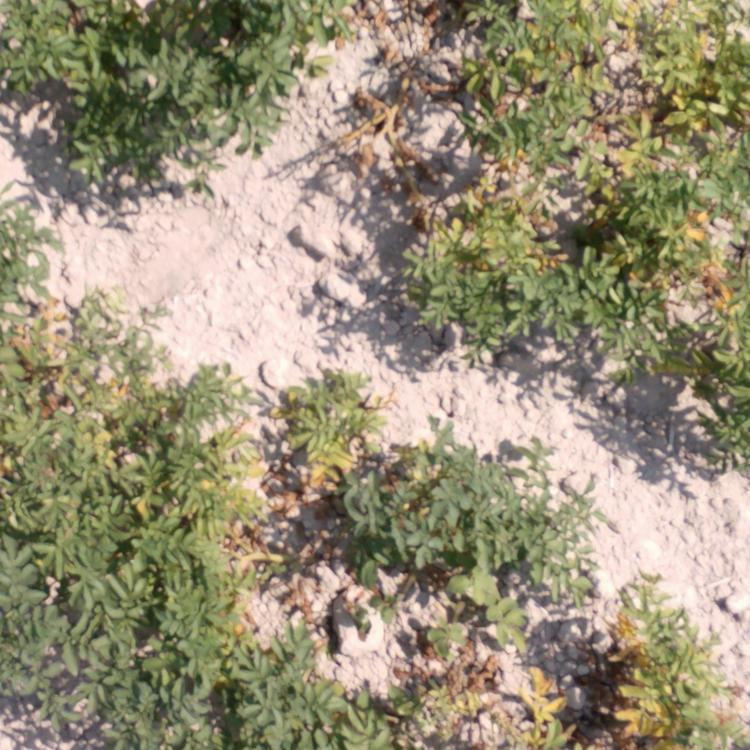healthy: (355, 500, 564, 607), (1, 639, 207, 747), (1, 1, 187, 112), (1, 514, 153, 627), (191, 1, 302, 133), (49, 106, 181, 192), (447, 431, 564, 489)
stressed: (401, 1, 620, 340), (1, 387, 249, 510), (587, 572, 746, 750), (257, 356, 444, 504), (624, 238, 750, 454), (629, 3, 748, 227), (218, 631, 393, 750), (398, 644, 580, 750), (170, 516, 305, 624), (4, 204, 89, 365), (338, 42, 410, 162), (94, 292, 172, 379)
